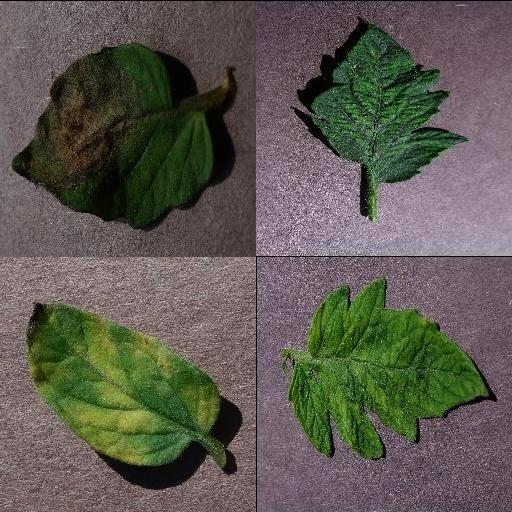Late Blight: (7, 41, 215, 229)
Leaf Mold: (25, 300, 221, 464)
Mosaic Virus: (286, 274, 492, 460), (310, 24, 468, 184)
